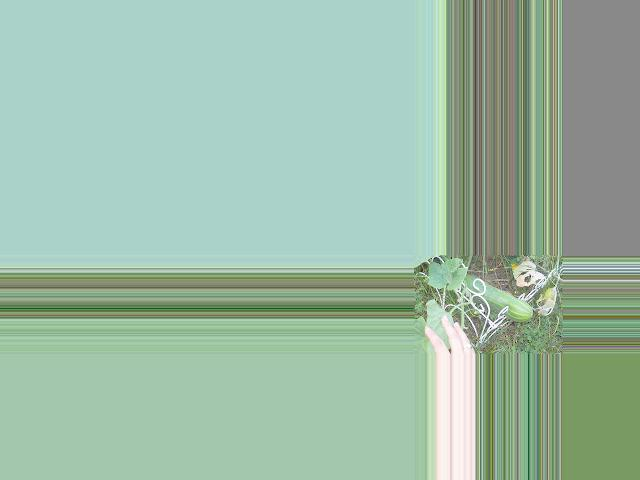cucumber: (463, 275, 532, 322)
